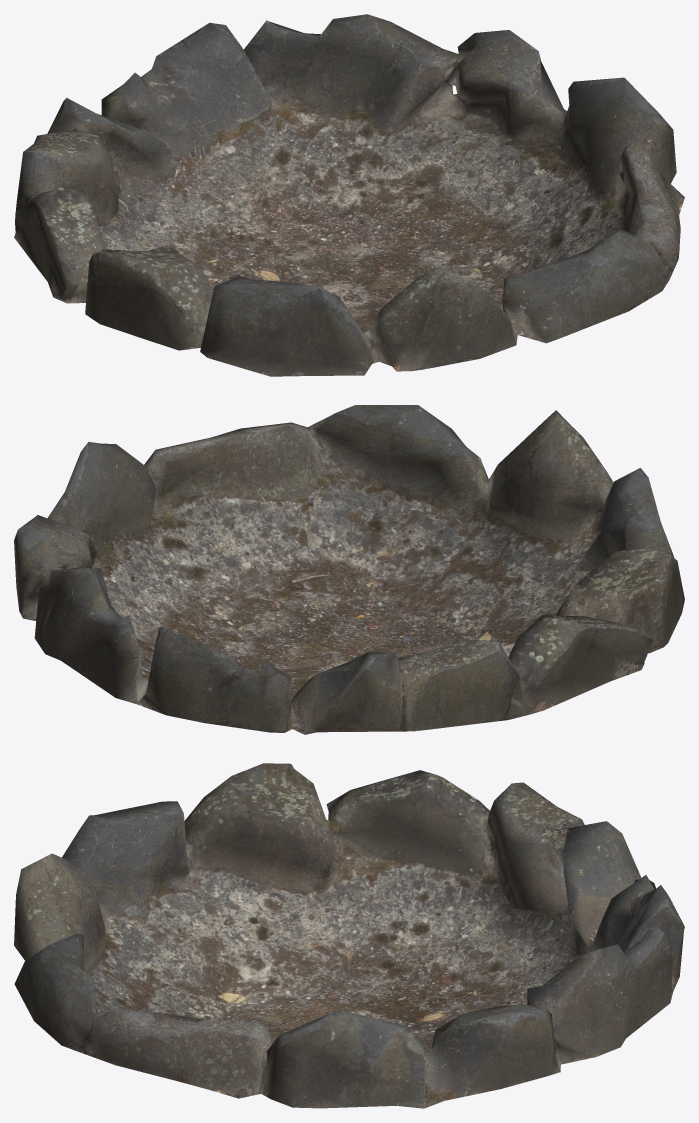
The model's file is stone_fire_pit_lod2.glb.
The picture shows the model from 3 angles, top to bottom: view 1: azimuth 30°, elevation 25°; view 2: azimuth 150°, elevation 25°; view 3: azimuth 270°, elevation 25°; orthographic projection.
Parts seen in each view (by area): view 1: stone_fire_pit; view 2: stone_fire_pit; view 3: stone_fire_pit.
Part boxes in pixels (<box>): stone_fire_pit: <box>14,14,684,376</box>; stone_fire_pit: <box>14,405,684,734</box>; stone_fire_pit: <box>14,763,684,1108</box>.
Size of the model in its own units: 1.45 by 0.3821 by 1.43.
Materials: 1 (1 with a texture image).
